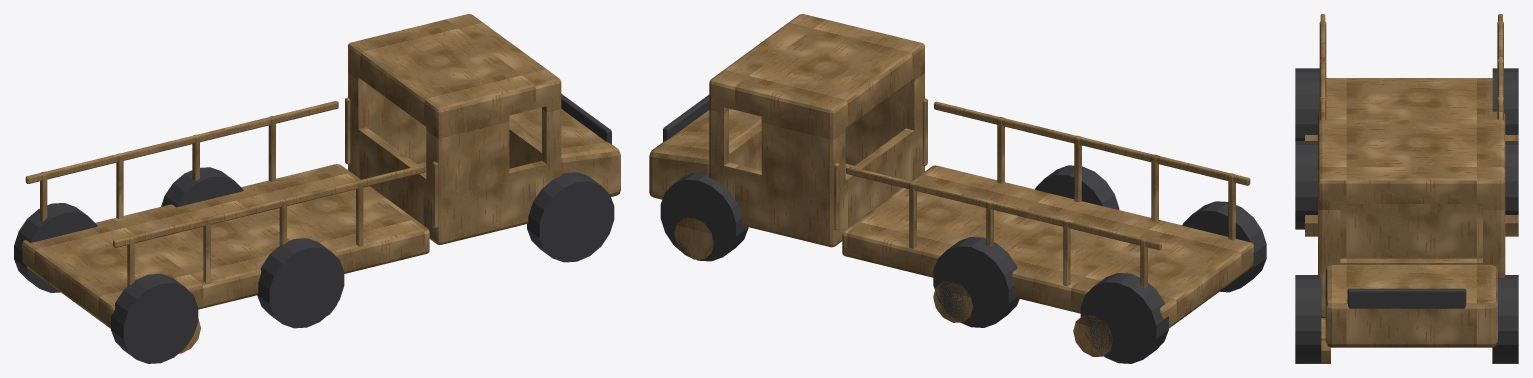
File: truck.glb
3 renders of one model, left to right at view 1: azimuth 30°, elevation 25°; view 2: azimuth 150°, elevation 25°; view 3: azimuth 270°, elevation 25°, orthographic.
Parts seen in each view (by area): view 1: truck; view 2: truck; view 3: truck.
Boxes of the visible parts, x1=… form: truck: x1=14, y1=14, x2=620, y2=363; truck: x1=649, y1=14, x2=1266, y2=363; truck: x1=1295, y1=14, x2=1518, y2=363.
Bounding box in the file's own units: 7.05 × 2.29 × 2.6.
2 materials, 1 textured.
